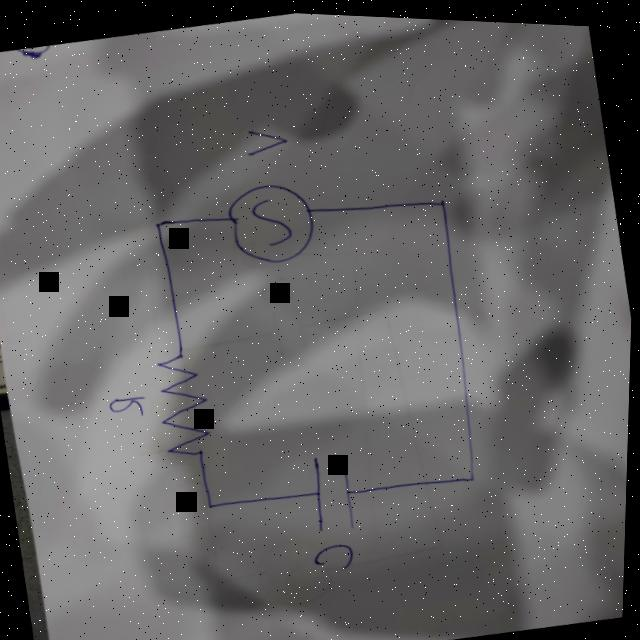capacitor: (304, 446, 361, 531)
junction: (146, 213, 169, 231), (203, 494, 221, 510), (433, 191, 449, 205), (464, 467, 481, 480)
resistor: (130, 343, 227, 476)
source: (221, 171, 323, 271)
text: (129, 342, 226, 469), (312, 536, 359, 570), (242, 121, 289, 155)
